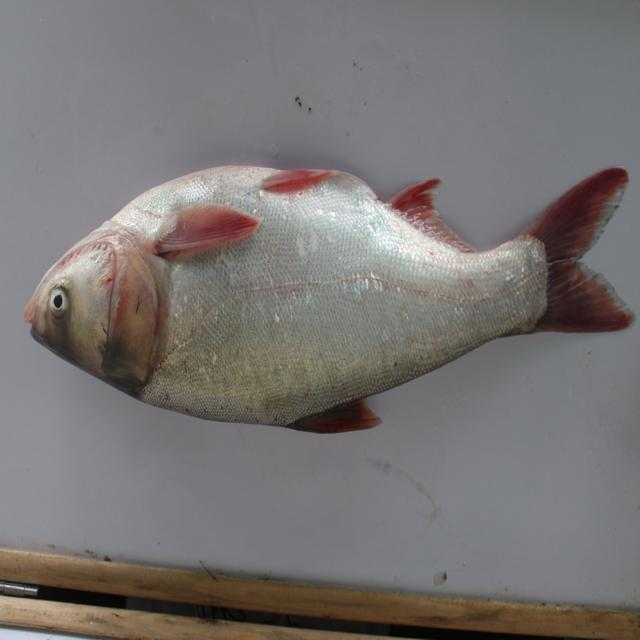SilverCarp: (47, 148, 621, 445)
